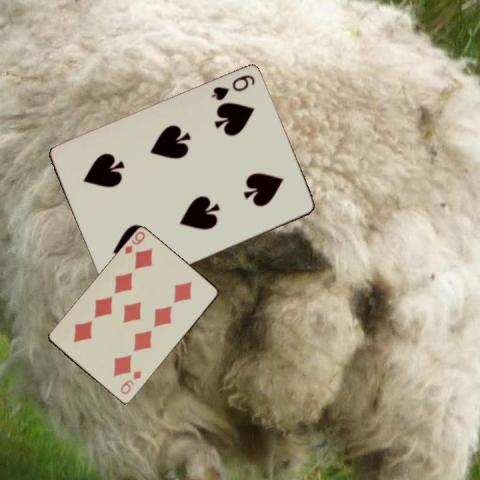6s: (208, 72, 257, 103)
9d: (117, 367, 143, 396), (121, 229, 147, 255)
